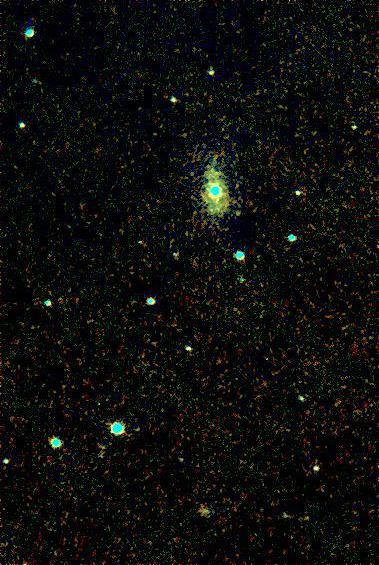star: (226, 199, 256, 229)
